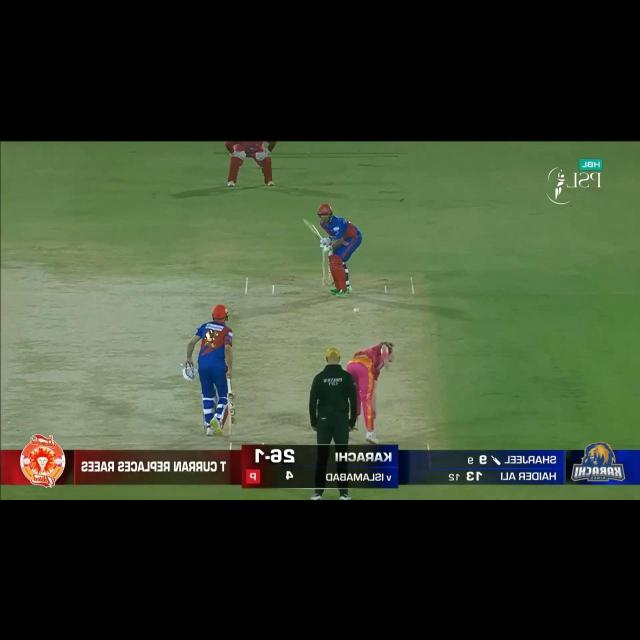bat: (304, 218, 324, 242), (229, 394, 236, 435)
toe: (226, 424, 240, 437), (304, 218, 312, 228)
